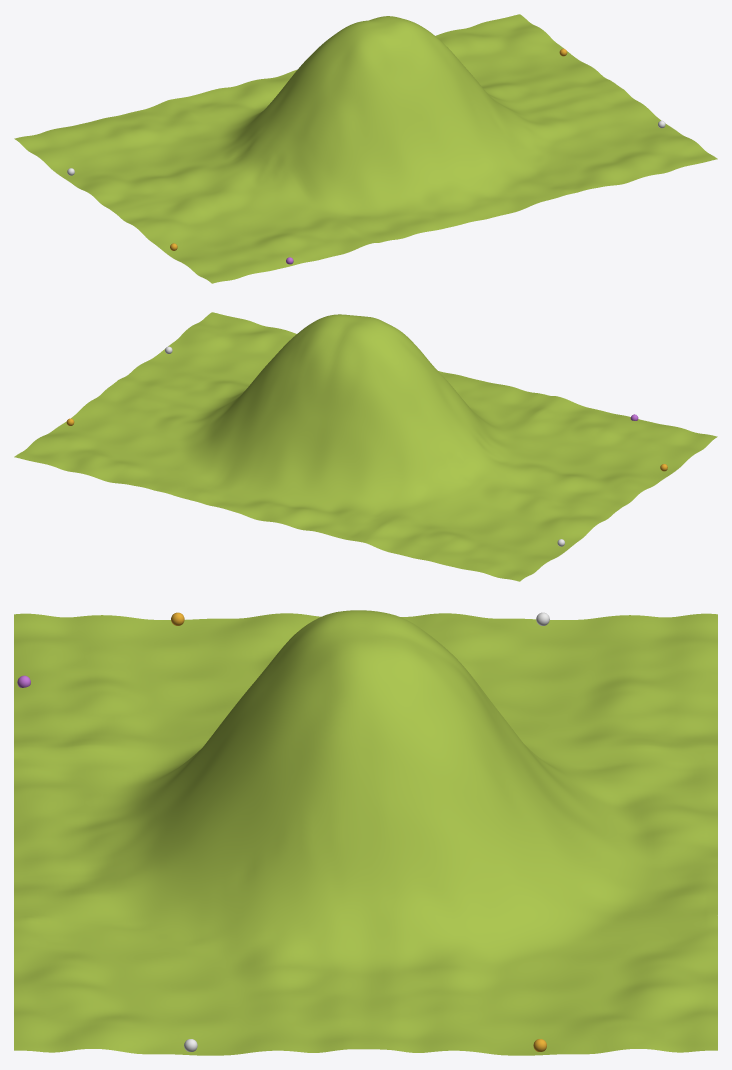
Rendered from marqueurs_coline2.fbx.
3 views of the same model, one above another, from view 1: azimuth 30°, elevation 25°; view 2: azimuth 150°, elevation 25°; view 3: azimuth 270°, elevation 25° (orthographic). The views are drawn at different scales.
Visible parts, largest first — view 1: coline2; view 2: coline2; view 3: coline2.
Part boxes in pixels (<box>): coline2: <box>14,14,717,283</box>; coline2: <box>14,312,717,581</box>; coline2: <box>14,610,717,1055</box>.
Size of the model in its own units: 2124 by 509 by 1441.
